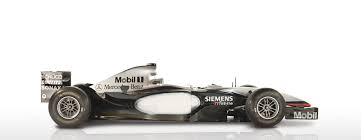f1_car: (34, 57, 324, 140)
